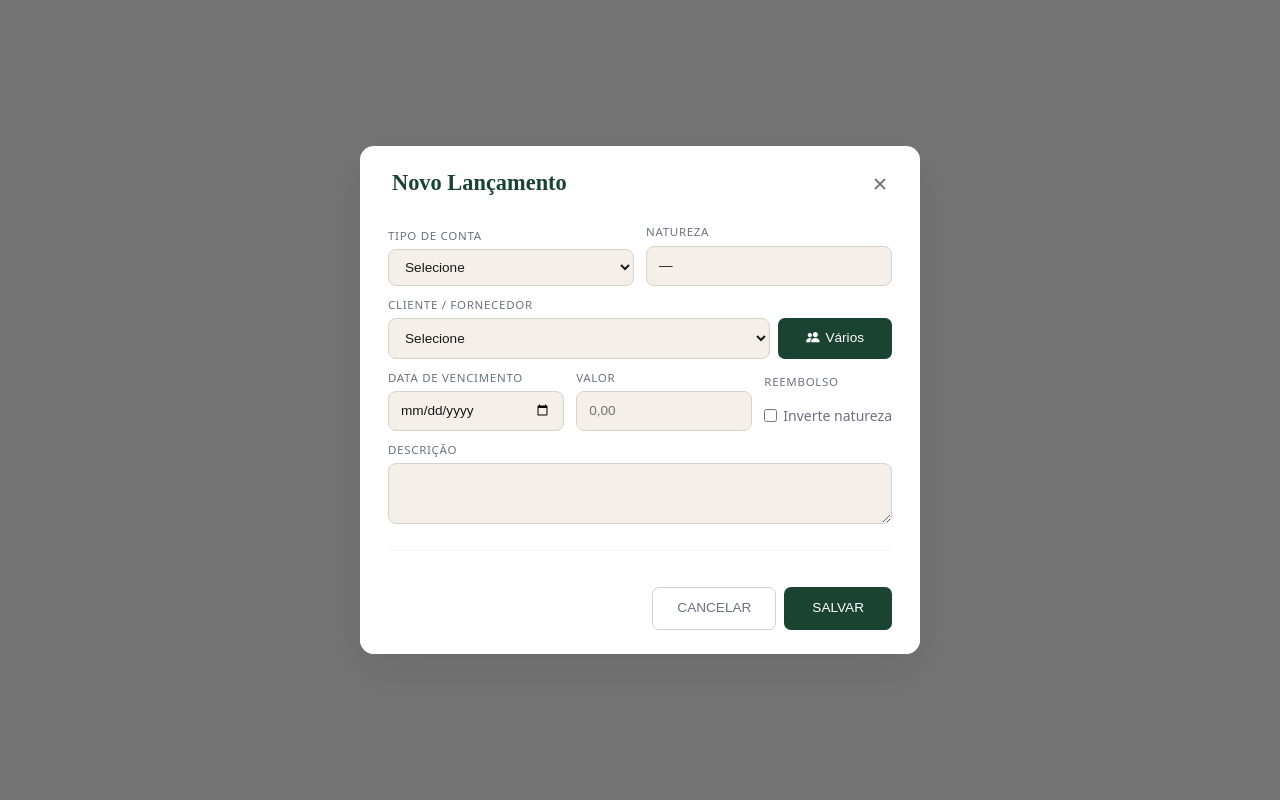
Test: LancamentoModal — seletor de clifor em massa › confirmar 2+ clifors troca para "Novo Lançamento em Massa" e botão "Editar seleção"
Expected: the heading "Novo Lançamento" is shown, top-left (392, 170), bottom-right (567, 197)
Click the button "Vários".
click(835, 338)  # box top-left (778, 318), bottom-right (892, 359)
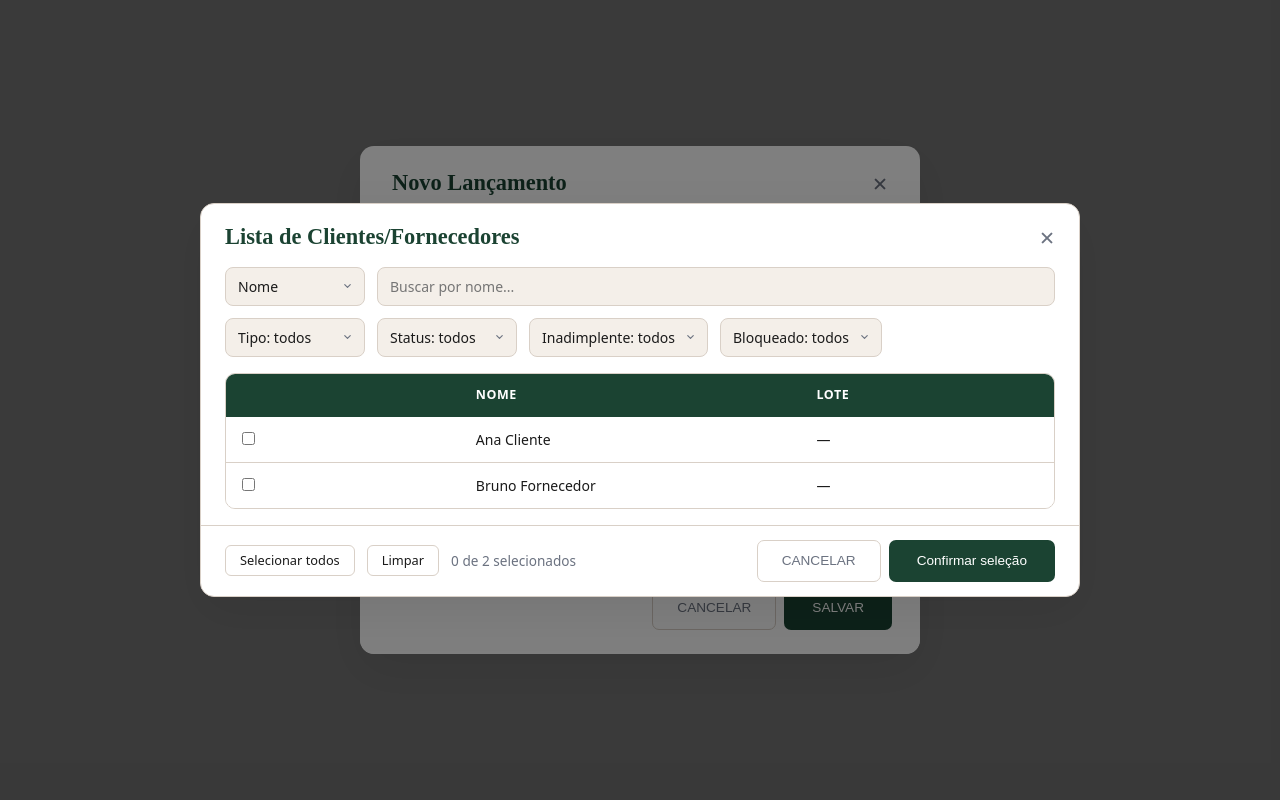
Expected: the heading "Lista de Clientes/Fornecedores" is shown, top-left (225, 224), bottom-right (519, 251)
Click the checkbox in the row of "Ana Cliente".
click(248, 438)  # box top-left (242, 432), bottom-right (255, 445)
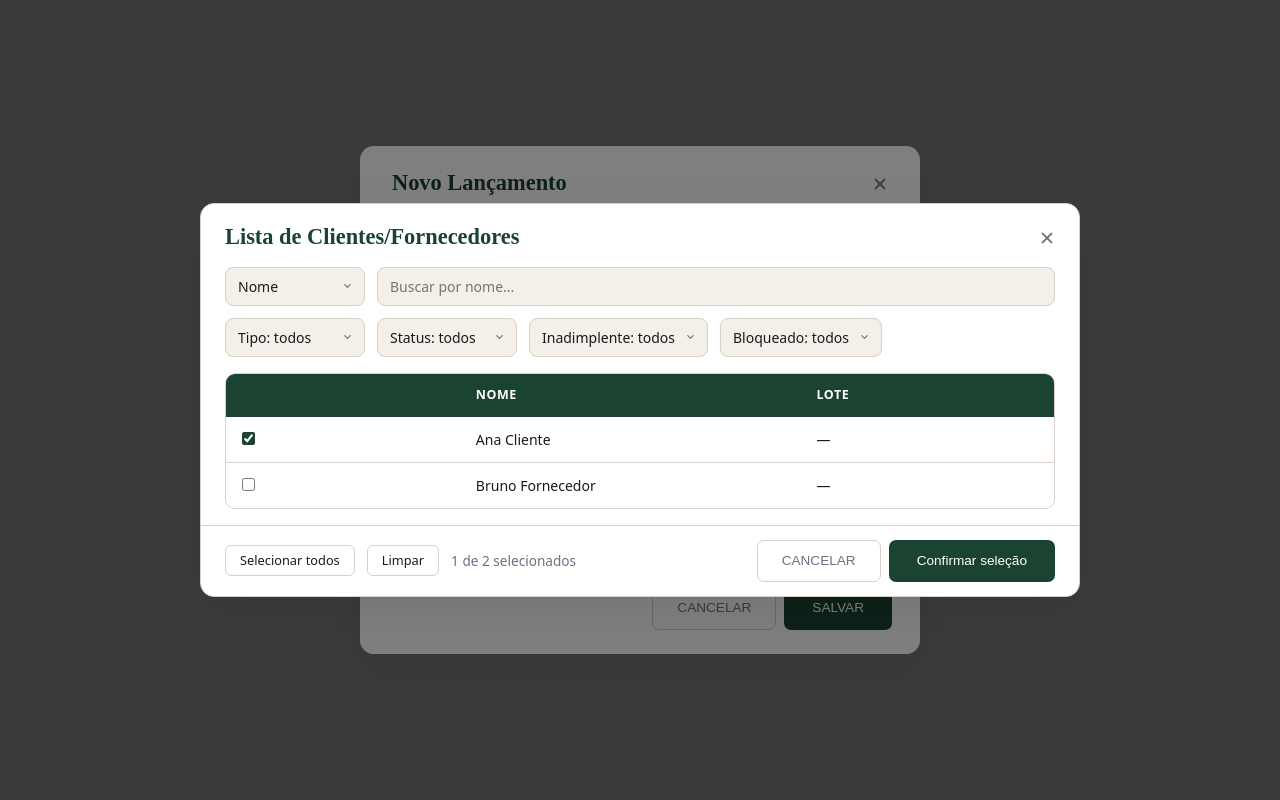
Click the checkbox in the row of "Bruno Fornecedor".
click(248, 484)  # box top-left (242, 478), bottom-right (255, 491)
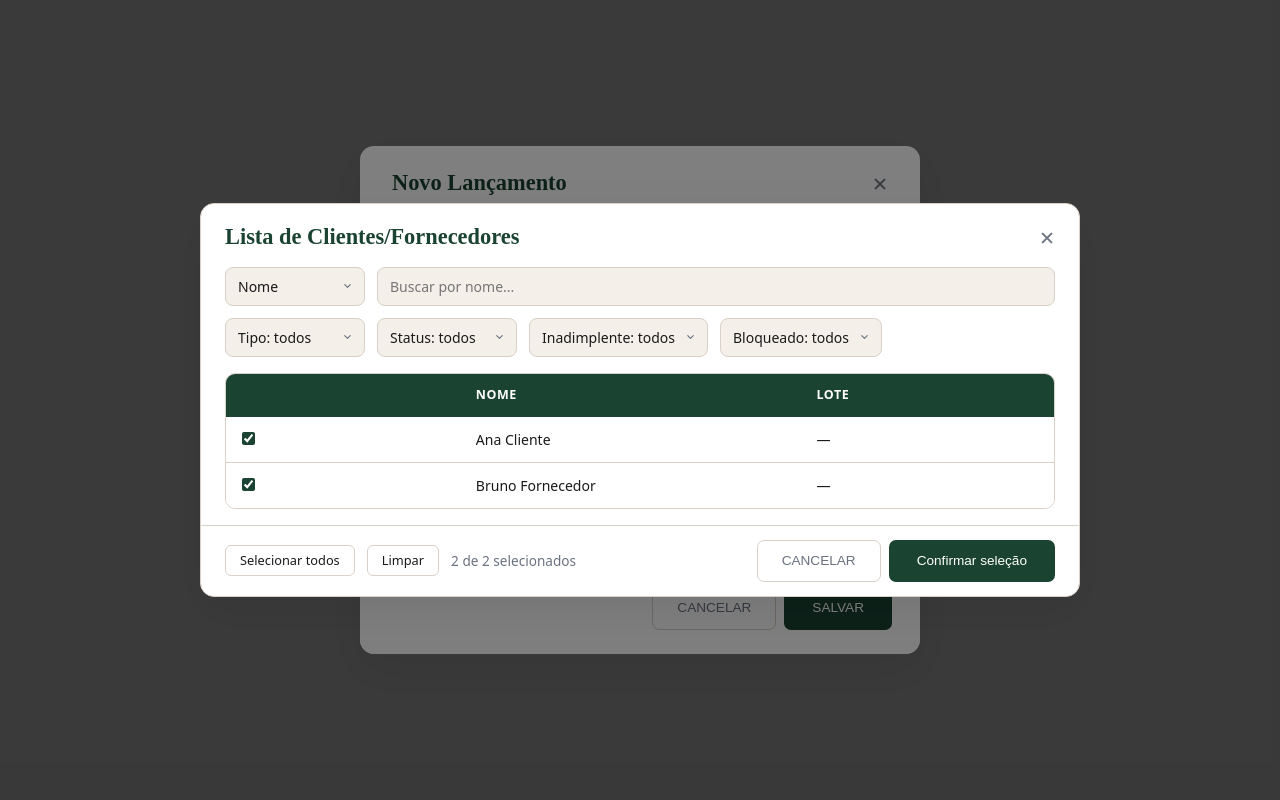
Click the button "Confirmar seleção".
click(972, 561)  # box top-left (889, 540), bottom-right (1055, 582)
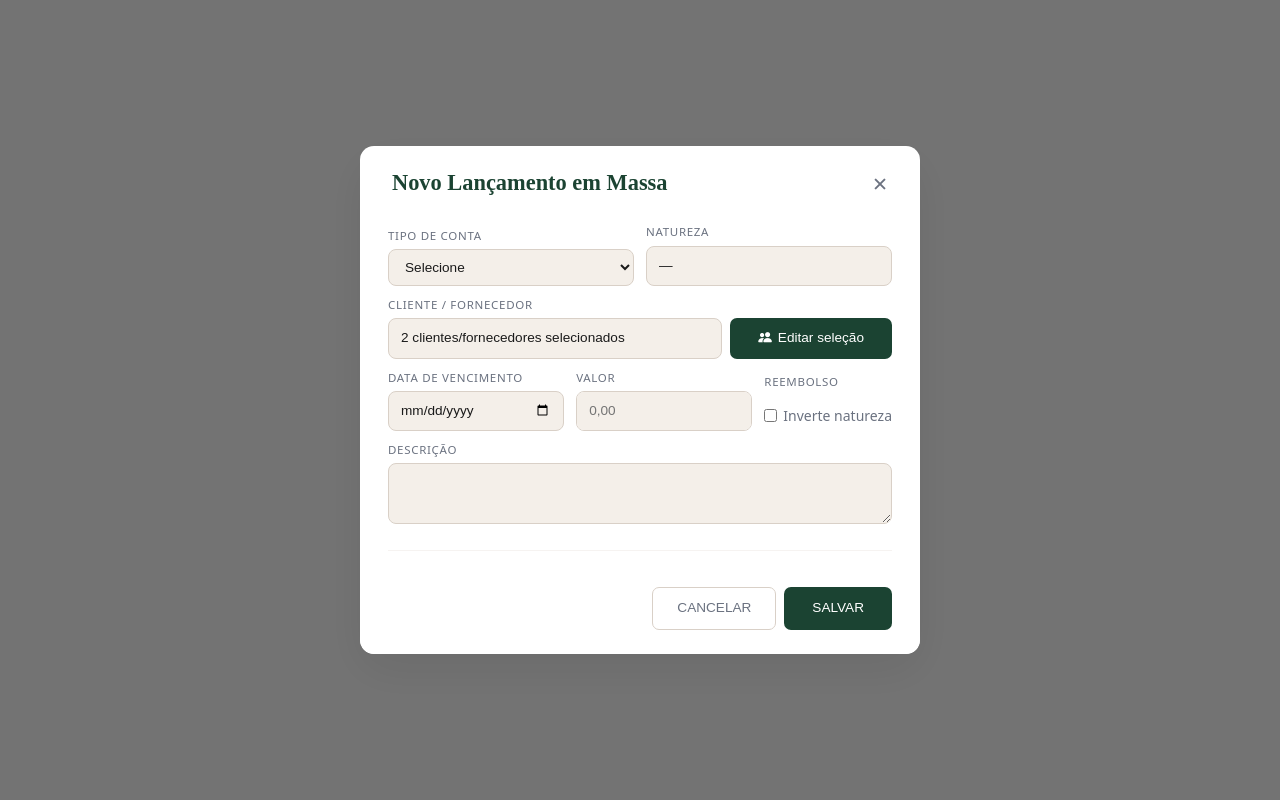
Expected: the heading "Novo Lançamento em Massa" is shown, top-left (392, 170), bottom-right (668, 197)
Expected: the button "Editar seleção" is shown, top-left (730, 318), bottom-right (892, 359)
Expected: the field showing "2 clientes/fornecedores selecionados" is shown, top-left (388, 318), bottom-right (722, 359)
